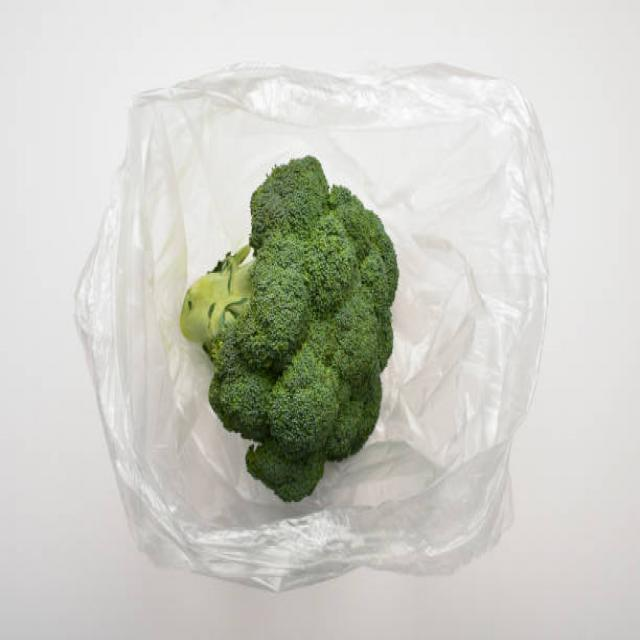broccoli: (174, 137, 404, 480)
